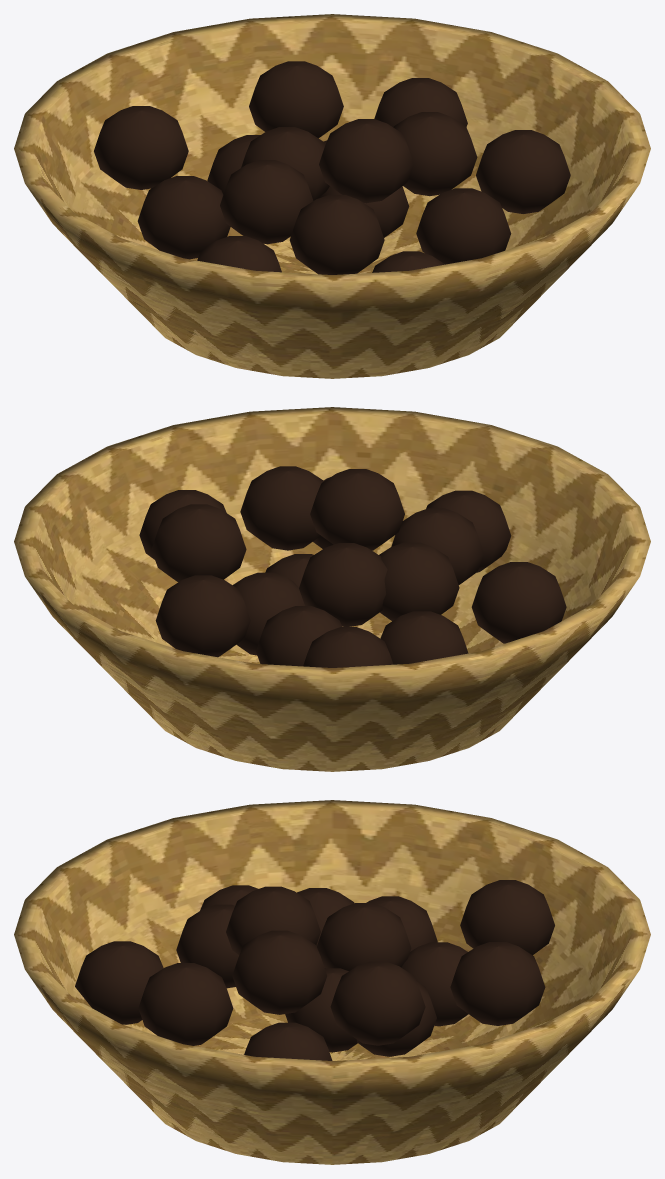
File: soumbala.glb
3 renders of one model, top to bottom at view 1: azimuth 30°, elevation 25°; view 2: azimuth 150°, elevation 25°; view 3: azimuth 270°, elevation 25°, orthographic.
Parts seen in each view (by area): view 1: soumbala; view 2: soumbala; view 3: soumbala.
Part boxes in pixels (<box>): soumbala: <box>14,14,650,378</box>; soumbala: <box>14,407,650,771</box>; soumbala: <box>14,800,650,1164</box>.
Bounding box in the file's own units: 0.66 × 0.252 × 0.66.
2 materials, 1 textured.
